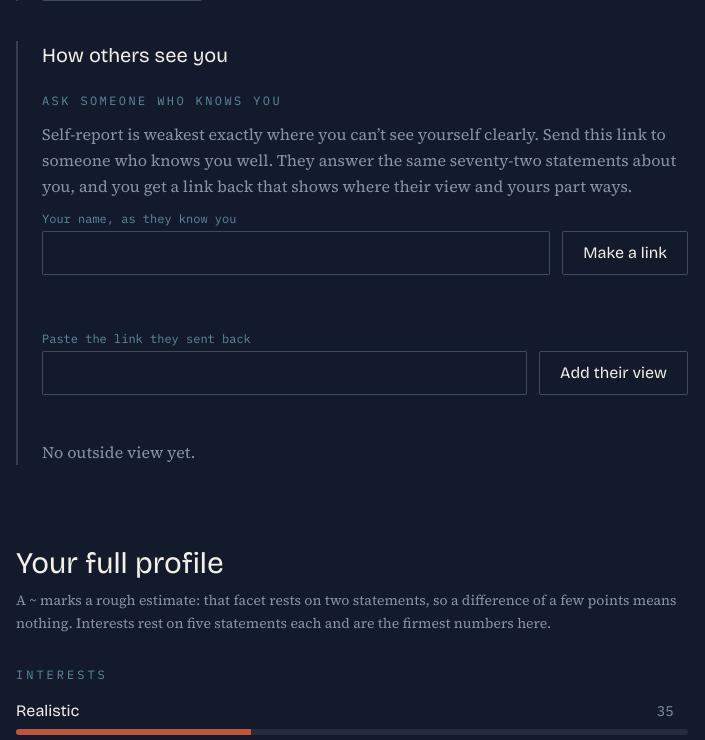
Test: how others see you › rejects a link that does not carry a complete set of answers
(page scrolled)
Type "https://example.org/#from=Ana:not-a-code" into the field labelled "Paste the link they sent back".
click(285, 373); type("https://example.org/#from=Ana:not-a-code")  # box [42, 351, 527, 395]
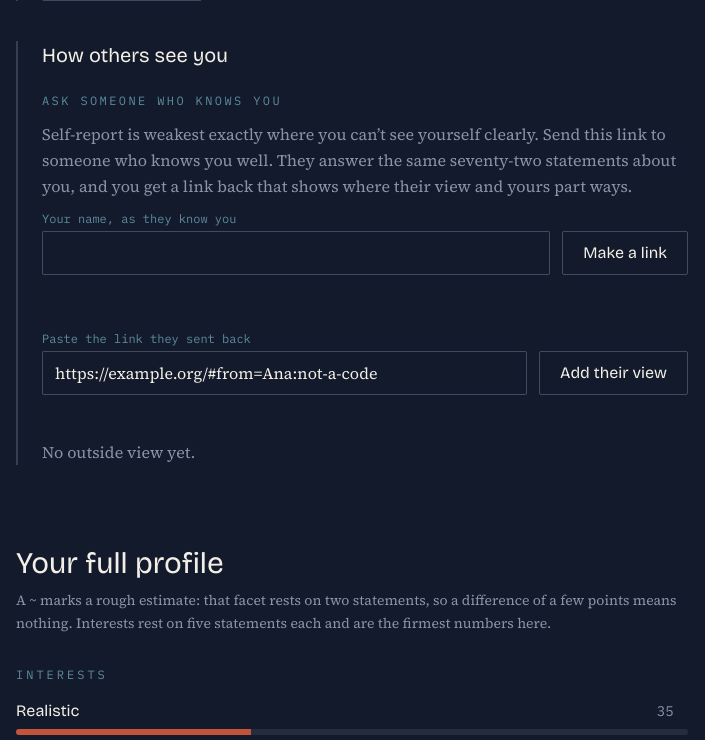
Click the button "Add their view".
click(614, 373)  # box [539, 351, 688, 395]
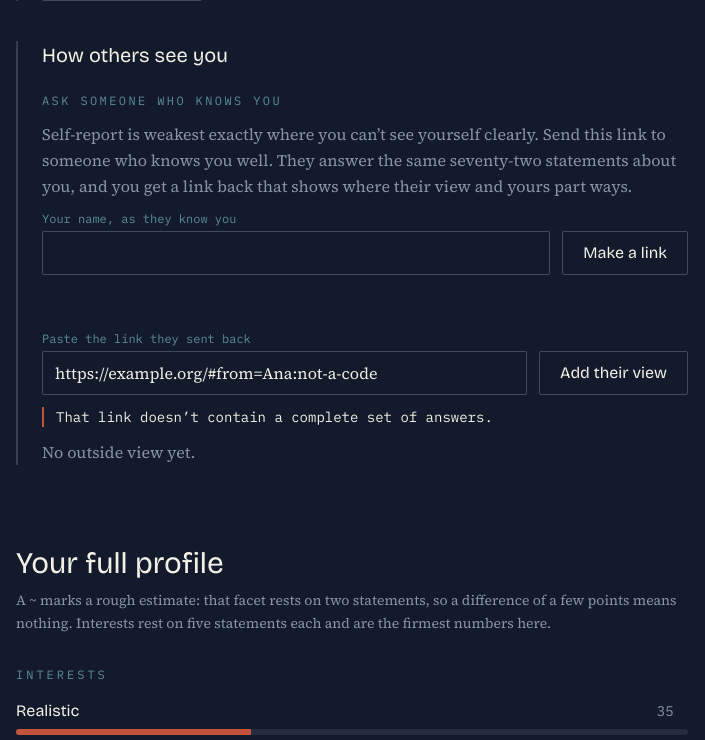
Now the element named "Compared with how someone who knows you answered" shows "That link doesn’t contain a complete set of answers.", box [56, 408, 493, 426]
